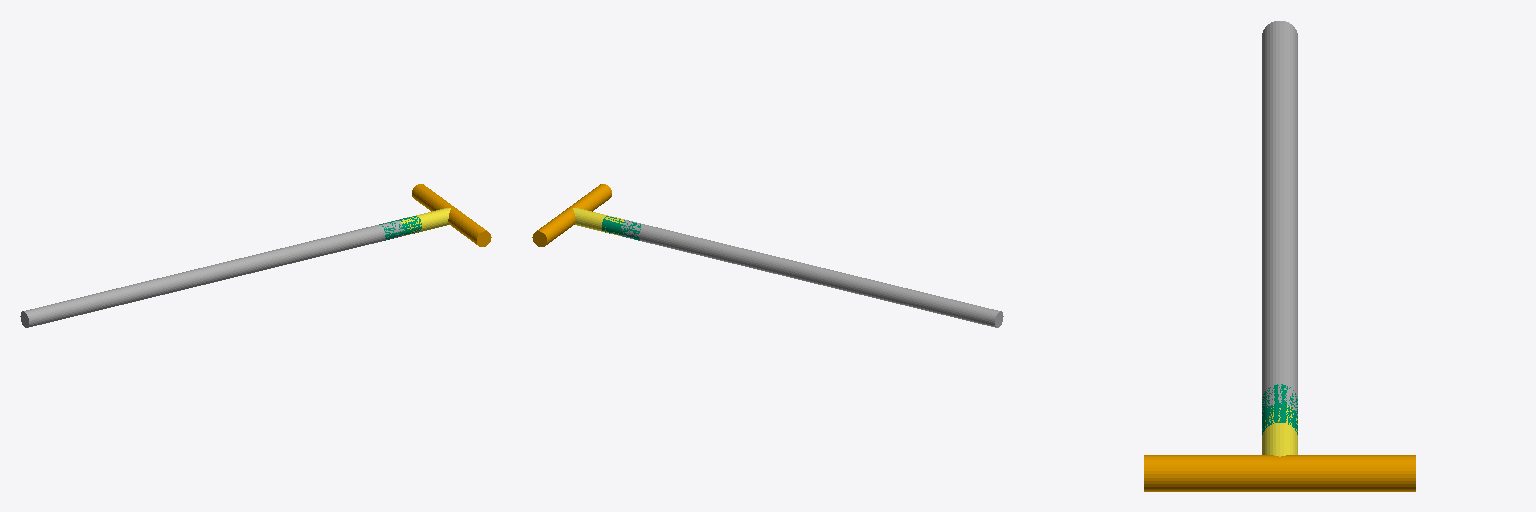
robot.urdf — ouzel:
<?xml version="1.0" ?><!-- =================================================================================== --><!-- |    This document was autogenerated by xacro from [local-path]/catkin_ws/src/mav_tools/mav_description/urdf/ouzel_base.xacro | --><!-- |    EDITING THIS FILE BY HAND IS NOT RECOMMENDED                                 | --><!-- =================================================================================== --><!--
  Copyright 2015 [author], ASL, ETH Zurich, Switzerland
  Copyright 2015 [author], ASL, ETH Zurich, Switzerland
  Copyright 2015 [author], ASL, ETH Zurich, Switzerland
  Copyright 2015 [author], ASL, ETH Zurich, Switzerland
  Copyright 2015 [author], ASL, ETH Zurich, Switzerland

  Licensed under the Apache License, Version 2.0 (the "License");
  you may not use this file except in compliance with the License.
  You may obtain a copy of the License at

  http://www.apache.org/licenses/LICENSE-2.0

  Unless required by applicable law or agreed to in writing, software
  distributed under the License is distributed on an "AS IS" BASIS,
  WITHOUT WARRANTIES OR CONDITIONS OF ANY KIND, either express or implied.
  See the License for the specific language governing permissions and
  limitations under the License.
--><robot name="ouzel"><!-- =============================================================== --><!-- ==================== ROS INTERFACE MACRO ====================== --><!-- =============================================================== --><!-- <xacro:macro 
  		name="ros_interface_plugin_macro"
  		params="namespace">
    <gazebo>
      <plugin name="ros_interface_plugin" filename="librotors_gazebo_ros_interface_plugin.so">
        <robotNamespace>${namespace}</robotNamespace>
      </plugin>
    </gazebo>
  </xacro:macro>--><link name="ouzel/base_link" /><joint name="ouzel/base_joint" type="fixed"><origin rpy="0.0 0 0" xyz="0 0 0" /><parent link="ouzel/base_link" /><child link="ouzel/base_link_inertia" /></joint><link name="ouzel/base_link_inertia"><inertial><mass value="2.53" /><!-- [kg] --><origin xyz="0.0 0.0 0.03" /><inertia ixx="0.0075" ixy="-3.4208e-05" ixz="2.4695e-05" iyy="0.010939" iyz="-3.8826e-06" izz="0.01369" /></inertial><visual><origin rpy="0 0 0" xyz="0 0 0" /><geometry><mesh filename="/ouzel_simple.obj" scale="1 1 1" /></geometry></visual><collision><origin rpy="0 0 0" xyz="0 0 0" /><geometry><mesh filename="/ouzel_simple.obj" scale="1 1 1" /></geometry></collision><surface><friction><ode><mu>0.5</mu><mu2>0.5</mu2></ode></friction><bounce><restitution_coefficient>0.01</restitution_coefficient><threshold>0.01</threshold></bounce><contact><ode><max_vel>0.1</max_vel><soft_cfm>0.8</soft_cfm><soft_erp>0.8</soft_erp><kd>2500</kd><kp>10</kp><min_depth>0.001</min_depth></ode></contact></surface></link><!-- attach multirotor_base_plugin to the base_link --><!-- Rotor tilt_unit --><joint name="ouzel/tilt_unit_0_revolutejoint" type="continuous"><origin rpy="0 0 4.71238898038" xyz="0 -0.3 0" /><axis xyz="1 0 0" /><parent link="ouzel/base_link_inertia" /><child link="ouzel/tilt_unit_0" /></joint><link name="ouzel/tilt_unit_0"><inertial><mass value="0.277" /><!-- [kg] --><inertia ixx="0.00034257" ixy="0" ixz="0" iyy="0.0013205" iyz="0" izz="0.0010037" /><!-- [kg m^2] [kg m^2] [kg m^2] [kg m^2] [kg m^2] [kg m^2] --></inertial><visual><geometry><mesh filename="[local-path]/catkin_ws/src/rotors_simulator/rotors_description/meshes/omav/omav_tiltarm.dae" scale="1 1 1" /></geometry></visual><collision><geometry><box size="0.005 0.005 0.005" /><!-- [m] --></geometry></collision></link><!-- Upper Rotor --><joint name="rotor_0_joint" type="continuous"><origin rpy="0 0 0" xyz="0 0 0.06" /><axis xyz="0 0 1" /><parent link="ouzel/tilt_unit_0" /><child link="rotor_0" /></joint><link name="rotor_0"><inertial><mass value="0.0065" /><!-- [kg] --><inertia ixx="2.2154157805000002e-06" ixy="0.0" ixz="0.0" iyy="7.081470917410501e-05" iyz="0.0" izz="7.2932624993605e-05" /></inertial><visual><geometry><mesh filename="[local-path]/catkin_ws/src/rotors_simulator/rotors_description/meshes/propeller_ccw.dae" scale="0.1143 0.1143 0.1143" /></geometry></visual><collision><geometry><cylinder length="0.005" radius="0.1143" /><!-- [m] --></geometry></collision></link><!-- Lower Rotor --><joint name="rotor_6_joint" type="continuous"><origin rpy="0 0 0" xyz="0 0 -0.06" /><axis xyz="0 0 1" /><parent link="ouzel/tilt_unit_0" /><child link="rotor_6" /></joint><link name="rotor_6"><inertial><mass value="0.0065" /><!-- [kg] --><inertia ixx="2.2154157805000002e-06" ixy="0.0" ixz="0.0" iyy="7.081470917410501e-05" iyz="0.0" izz="7.2932624993605e-05" /></inertial><visual><geometry><mesh filename="[local-path]/catkin_ws/src/rotors_simulator/rotors_description/meshes/propeller_cw.dae" scale="0.1143 0.1143 0.1143" /></geometry></visual><collision><geometry><cylinder length="0.005" radius="0.1143" /><!-- [m] --></geometry></collision></link><!-- Rotor tilt_unit --><joint name="ouzel/tilt_unit_1_revolutejoint" type="continuous"><origin rpy="0 0 1.57079632679" xyz="0 0.3 0" /><axis xyz="1 0 0" /><parent link="ouzel/base_link_inertia" /><child link="ouzel/tilt_unit_1" /></joint><link name="ouzel/tilt_unit_1"><inertial><mass value="0.277" /><!-- [kg] --><inertia ixx="0.00034257" ixy="0" ixz="0" iyy="0.0013205" iyz="0" izz="0.0010037" /><!-- [kg m^2] [kg m^2] [kg m^2] [kg m^2] [kg m^2] [kg m^2] --></inertial><visual><geometry><mesh filename="[local-path]/catkin_ws/src/rotors_simulator/rotors_description/meshes/omav/omav_tiltarm.dae" scale="1 1 1" /></geometry></visual><collision><geometry><box size="0.005 0.005 0.005" /><!-- [m] --></geometry></collision></link><!-- Upper Rotor --><joint name="rotor_1_joint" type="continuous"><origin rpy="0 0 0" xyz="0 0 0.06" /><axis xyz="0 0 1" /><parent link="ouzel/tilt_unit_1" /><child link="rotor_1" /></joint><link name="rotor_1"><inertial><mass value="0.0065" /><!-- [kg] --><inertia ixx="2.2154157805000002e-06" ixy="0.0" ixz="0.0" iyy="7.081470917410501e-05" iyz="0.0" izz="7.2932624993605e-05" /></inertial><visual><geometry><mesh filename="[local-path]/catkin_ws/src/rotors_simulator/rotors_description/meshes/propeller_cw.dae" scale="0.1143 0.1143 0.1143" /></geometry></visual><collision><geometry><cylinder length="0.005" radius="0.1143" /><!-- [m] --></geometry></collision></link><!-- Lower Rotor --><joint name="rotor_7_joint" type="continuous"><origin rpy="0 0 0" xyz="0 0 -0.06" /><axis xyz="0 0 1" /><parent link="ouzel/tilt_unit_1" /><child link="rotor_7" /></joint><link name="rotor_7"><inertial><mass value="0.0065" /><!-- [kg] --><inertia ixx="2.2154157805000002e-06" ixy="0.0" ixz="0.0" iyy="7.081470917410501e-05" iyz="0.0" izz="7.2932624993605e-05" /></inertial><visual><geometry><mesh filename="[local-path]/catkin_ws/src/rotors_simulator/rotors_description/meshes/propeller_ccw.dae" scale="0.1143 0.1143 0.1143" /></geometry></visual><collision><geometry><cylinder length="0.005" radius="0.1143" /><!-- [m] --></geometry></collision></link><!-- Rotor tilt_unit --><joint name="ouzel/tilt_unit_2_revolutejoint" type="continuous"><origin rpy="0 0 0.52359877559" xyz="0.25980762113519995 0.15 0" /><axis xyz="1 0 0" /><parent link="ouzel/base_link_inertia" /><child link="ouzel/tilt_unit_2" /></joint><link name="ouzel/tilt_unit_2"><inertial><mass value="0.277" /><!-- [kg] --><inertia ixx="0.00034257" ixy="0" ixz="0" iyy="0.0013205" iyz="0" izz="0.0010037" /><!-- [kg m^2] [kg m^2] [kg m^2] [kg m^2] [kg m^2] [kg m^2] --></inertial><visual><geometry><mesh filename="[local-path]/catkin_ws/src/rotors_simulator/rotors_description/meshes/omav/omav_tiltarm.dae" scale="1 1 1" /></geometry></visual><collision><geometry><box size="0.005 0.005 0.005" /><!-- [m] --></geometry></collision></link><!-- Upper Rotor --><joint name="rotor_2_joint" type="continuous"><origin rpy="0 0 0" xyz="0 0 0.06" /><axis xyz="0 0 1" /><parent link="ouzel/tilt_unit_2" /><child link="rotor_2" /></joint><link name="rotor_2"><inertial><mass value="0.0065" /><!-- [kg] --><inertia ixx="2.2154157805000002e-06" ixy="0.0" ixz="0.0" iyy="7.081470917410501e-05" iyz="0.0" izz="7.2932624993605e-05" /></inertial><visual><geometry><mesh filename="[local-path]/catkin_ws/src/rotors_simulator/rotors_description/meshes/propeller_ccw.dae" scale="0.1143 0.1143 0.1143" /></geometry></visual><collision><geometry><cylinder length="0.005" radius="0.1143" /><!-- [m] --></geometry></collision></link><!-- Lower Rotor --><joint name="rotor_8_joint" type="continuous"><origin rpy="0 0 0" xyz="0 0 -0.06" /><axis xyz="0 0 1" /><parent link="ouzel/tilt_unit_2" /><child link="rotor_8" /></joint><link name="rotor_8"><inertial><mass value="0.0065" /><!-- [kg] --><inertia ixx="2.2154157805000002e-06" ixy="0.0" ixz="0.0" iyy="7.081470917410501e-05" iyz="0.0" izz="7.2932624993605e-05" /></inertial><visual><geometry><mesh filename="[local-path]/catkin_ws/src/rotors_simulator/rotors_description/meshes/propeller_cw.dae" scale="0.1143 0.1143 0.1143" /></geometry></visual><collision><geometry><cylinder length="0.005" radius="0.1143" /><!-- [m] --></geometry></collision></link><!-- Rotor tilt_unit --><joint name="ouzel/tilt_unit_3_revolutejoint" type="continuous"><origin rpy="0 0 3.66519142919" xyz="-0.25980762113519995 -0.15 0" /><axis xyz="1 0 0" /><parent link="ouzel/base_link_inertia" /><child link="ouzel/tilt_unit_3" /></joint><link name="ouzel/tilt_unit_3"><inertial><mass value="0.277" /><!-- [kg] --><inertia ixx="0.00034257" ixy="0" ixz="0" iyy="0.0013205" iyz="0" izz="0.0010037" /><!-- [kg m^2] [kg m^2] [kg m^2] [kg m^2] [kg m^2] [kg m^2] --></inertial><visual><geometry><mesh filename="[local-path]/catkin_ws/src/rotors_simulator/rotors_description/meshes/omav/omav_tiltarm.dae" scale="1 1 1" /></geometry></visual><collision><geometry><box size="0.005 0.005 0.005" /><!-- [m] --></geometry></collision></link><!-- Upper Rotor --><joint name="rotor_3_joint" type="continuous"><origin rpy="0 0 0" xyz="0 0 0.06" /><axis xyz="0 0 1" /><parent link="ouzel/tilt_unit_3" /><child link="rotor_3" /></joint><link name="rotor_3"><inertial><mass value="0.0065" /><!-- [kg] --><inertia ixx="2.2154157805000002e-06" ixy="0.0" ixz="0.0" iyy="7.081470917410501e-05" iyz="0.0" izz="7.2932624993605e-05" /></inertial><visual><geometry><mesh filename="[local-path]/catkin_ws/src/rotors_simulator/rotors_description/meshes/propeller_cw.dae" scale="0.1143 0.1143 0.1143" /></geometry></visual><collision><geometry><cylinder length="0.005" radius="0.1143" /><!-- [m] --></geometry></collision></link><!-- Lower Rotor --><joint name="rotor_9_joint" type="continuous"><origin rpy="0 0 0" xyz="0 0 -0.06" /><axis xyz="0 0 1" /><parent link="ouzel/tilt_unit_3" /><child link="rotor_9" /></joint><link name="rotor_9"><inertial><mass value="0.0065" /><!-- [kg] --><inertia ixx="2.2154157805000002e-06" ixy="0.0" ixz="0.0" iyy="7.081470917410501e-05" iyz="0.0" izz="7.2932624993605e-05" /></inertial><visual><geometry><mesh filename="[local-path]/catkin_ws/src/rotors_simulator/rotors_description/meshes/propeller_ccw.dae" scale="0.1143 0.1143 0.1143" /></geometry></visual><collision><geometry><cylinder length="0.005" radius="0.1143" /><!-- [m] --></geometry></collision></link><!-- Rotor tilt_unit --><joint name="ouzel/tilt_unit_4_revolutejoint" type="continuous"><origin rpy="0 0 5.75958653158" xyz="0.25980762113519995 -0.15 0" /><axis xyz="1 0 0" /><parent link="ouzel/base_link_inertia" /><child link="ouzel/tilt_unit_4" /></joint><link name="ouzel/tilt_unit_4"><inertial><mass value="0.277" /><!-- [kg] --><inertia ixx="0.00034257" ixy="0" ixz="0" iyy="0.0013205" iyz="0" izz="0.0010037" /><!-- [kg m^2] [kg m^2] [kg m^2] [kg m^2] [kg m^2] [kg m^2] --></inertial><visual><geometry><mesh filename="[local-path]/catkin_ws/src/rotors_simulator/rotors_description/meshes/omav/omav_tiltarm.dae" scale="1 1 1" /></geometry></visual><collision><geometry><box size="0.005 0.005 0.005" /><!-- [m] --></geometry></collision></link><!-- Upper Rotor --><joint name="rotor_4_joint" type="continuous"><origin rpy="0 0 0" xyz="0 0 0.06" /><axis xyz="0 0 1" /><parent link="ouzel/tilt_unit_4" /><child link="rotor_4" /></joint><link name="rotor_4"><inertial><mass value="0.0065" /><!-- [kg] --><inertia ixx="2.2154157805000002e-06" ixy="0.0" ixz="0.0" iyy="7.081470917410501e-05" iyz="0.0" izz="7.2932624993605e-05" /></inertial><visual><geometry><mesh filename="[local-path]/catkin_ws/src/rotors_simulator/rotors_description/meshes/propeller_cw.dae" scale="0.1143 0.1143 0.1143" /></geometry></visual><collision><geometry><cylinder length="0.005" radius="0.1143" /><!-- [m] --></geometry></collision></link><!-- Lower Rotor --><joint name="rotor_10_joint" type="continuous"><origin rpy="0 0 0" xyz="0 0 -0.06" /><axis xyz="0 0 1" /><parent link="ouzel/tilt_unit_4" /><child link="rotor_10" /></joint><link name="rotor_10"><inertial><mass value="0.0065" /><!-- [kg] --><inertia ixx="2.2154157805000002e-06" ixy="0.0" ixz="0.0" iyy="7.081470917410501e-05" iyz="0.0" izz="7.2932624993605e-05" /></inertial><visual><geometry><mesh filename="[local-path]/catkin_ws/src/rotors_simulator/rotors_description/meshes/propeller_ccw.dae" scale="0.1143 0.1143 0.1143" /></geometry></visual><collision><geometry><cylinder length="0.005" radius="0.1143" /><!-- [m] --></geometry></collision></link><!-- Rotor tilt_unit --><joint name="ouzel/tilt_unit_5_revolutejoint" type="continuous"><origin rpy="0 0 2.61799387799" xyz="-0.25980762113519995 0.15 0" /><axis xyz="1 0 0" /><parent link="ouzel/base_link_inertia" /><child link="ouzel/tilt_unit_5" /></joint><link name="ouzel/tilt_unit_5"><inertial><mass value="0.277" /><!-- [kg] --><inertia ixx="0.00034257" ixy="0" ixz="0" iyy="0.0013205" iyz="0" izz="0.0010037" /><!-- [kg m^2] [kg m^2] [kg m^2] [kg m^2] [kg m^2] [kg m^2] --></inertial><visual><geometry><mesh filename="[local-path]/catkin_ws/src/rotors_simulator/rotors_description/meshes/omav/omav_tiltarm.dae" scale="1 1 1" /></geometry></visual><collision><geometry><box size="0.005 0.005 0.005" /><!-- [m] --></geometry></collision></link><!-- Upper Rotor --><joint name="rotor_5_joint" type="continuous"><origin rpy="0 0 0" xyz="0 0 0.06" /><axis xyz="0 0 1" /><parent link="ouzel/tilt_unit_5" /><child link="rotor_5" /></joint><link name="rotor_5"><inertial><mass value="0.0065" /><!-- [kg] --><inertia ixx="2.2154157805000002e-06" ixy="0.0" ixz="0.0" iyy="7.081470917410501e-05" iyz="0.0" izz="7.2932624993605e-05" /></inertial><visual><geometry><mesh filename="[local-path]/catkin_ws/src/rotors_simulator/rotors_description/meshes/propeller_ccw.dae" scale="0.1143 0.1143 0.1143" /></geometry></visual><collision><geometry><cylinder length="0.005" radius="0.1143" /><!-- [m] --></geometry></collision></link><!-- Lower Rotor --><joint name="rotor_11_joint" type="continuous"><origin rpy="0 0 0" xyz="0 0 -0.06" /><axis xyz="0 0 1" /><parent link="ouzel/tilt_unit_5" /><child link="rotor_11" /></joint><link name="rotor_11"><inertial><mass value="0.0065" /><!-- [kg] --><inertia ixx="2.2154157805000002e-06" ixy="0.0" ixz="0.0" iyy="7.081470917410501e-05" iyz="0.0" izz="7.2932624993605e-05" /></inertial><visual><geometry><mesh filename="[local-path]/catkin_ws/src/rotors_simulator/rotors_description/meshes/propeller_cw.dae" scale="0.1143 0.1143 0.1143" /></geometry></visual><collision><geometry><cylinder length="0.005" radius="0.1143" /><!-- [m] --></geometry></collision></link><!-- IMU link --><link name="ouzel/imu_link"><inertial><inertia ixx="0.00001" ixy="0.0" ixz="0.0" iyy="0.00001" iyz="0.0" izz="0.00001" /><mass value="0.015" /><!-- [kg] --><origin rpy="0 0 0" xyz="0 0 0" /></inertial></link><!-- IMU joint --><joint name="ouzel/imu_joint" type="fixed"><origin rpy="0 0 0" xyz="0 0 0" /><parent link="ouzel/base_link" /><child link="ouzel/imu_link" /><limit effort="0" lower="0" upper="0" velocity="0" /></joint><!-- IMU link --><link name="ouzel/imugt_link"><inertial><inertia ixx="0.00001" ixy="0.0" ixz="0.0" iyy="0.00001" iyz="0.0" izz="0.00001" /><mass value="1e-05" /><!-- [kg] --><origin rpy="0 0 0" xyz="0 0 0" /></inertial></link><!-- IMU joint --><joint name="ouzel/imugt_joint" type="fixed"><origin rpy="0 0 0" xyz="0 0 0" /><parent link="ouzel/base_link" /><child link="ouzel/imugt_link" /><limit effort="0" lower="0" upper="0" velocity="0" /></joint><!-- odometry link --><link name="ouzel/odometry_sensorgt_link"><inertial><inertia ixx="0.00001" ixy="0.0" ixz="0.0" iyy="0.00001" iyz="0.0" izz="0.00001" /><mass value="1e-05" /><!-- [kg] --></inertial></link><!-- odometry joint --><joint name="ouzel/odometry_sensorgt_joint" type="fixed"><parent link="ouzel/base_link" /><origin rpy="0.0 0.0 0.0" xyz="0.0 0.0 0.0" /><child link="ouzel/odometry_sensorgt_link" /><limit effort="0" lower="0" upper="0" velocity="0" /></joint><!-- [kg] --><!-- Add Ouzel frames --><joint name="ouzel/manipulator_joint" type="fixed"><axis xyz="0 0 1" /><origin rpy="0 1.5708 0" xyz="0 0 0" /><parent link="ouzel/base_link" /><child link="ouzel/manipulator" /></joint><link name="ouzel/manipulator"><visual><origin rpy="0 0 0" xyz="0 0 0.25" /><geometry><cylinder length="0.5" radius="0.01" /></geometry></visual><collision><origin rpy="0 0 0" xyz="0 0 0.25" /><geometry><cylinder length="0.5" radius="0.01" /></geometry></collision><inertial><mass value="0.18" /><inertia ixx="0.000807" ixy="0" ixz="0" iyy="0.000807" iyz="0" izz="2e-6" /></inertial></link>
  
  <!-- Add Hook to manipulator-->&gt;
  <joint name="ouzel/hook_joint" type="fixed">
    <axis xyz="0 0 0" />
    <origin rpy="1.5708 0 0" xyz="0 0 0.07" />
    <parent link="ouzel/tool" />
    <child link="hook" />
  </joint>
  <link name="hook">
    <visual>
      <origin rpy="0 0 0" xyz="0 0 0" />
      <geometry>
        <cylinder length="0.15" radius="0.01" />
      </geometry>
    </visual>
    <collision>
      <origin rpy="0 0 0" xyz="0 0 0" />
      <geometry>
        <cylinder length="0.15" radius="0.01" />
      </geometry>
    </collision>
    <inertial>
      <mass value="0.1" />
      <inertia ixx="0.00019" ixy="0" ixz="0" iyy="0.00019" iyz="0" izz="5e-6" />
    </inertial>
  </link>

  <link name="hook_ref">
    <inertial>
      <mass value="0.0"/>
      <origin rpy="0 0 0" xyz="0 0 0"/>
      <inertia ixx="0.0" ixy="0.0" ixz="0.0" iyy="0.0" iyz="0.0" izz="0.0"/>
    </inertial>
  </link>

  <joint name="hook_ref" type="fixed">
    <parent link="hook"/>
    <child link="hook_ref"/>
    <origin rpy="0 0 0" xyz="-0.050 0 0"/> <!-- was -0.0405 -->
    <!-- height handle + half the width door, 0.30 minus some offset -->
  </joint>
  
 
  <!-- =============================================================== --><!-- ==================== ROS INTERFACE MACRO ====================== --><!-- =============================================================== --><!-- <xacro:macro 
  		name="ros_interface_plugin_macro"
  		params="namespace">
    <gazebo>
      <plugin name="ros_interface_plugin" filename="librotors_gazebo_ros_interface_plugin.so">
        <robotNamespace>${namespace}</robotNamespace>
      </plugin>
    </gazebo>
  </xacro:macro>--><!--
#########################################################################################################################
Closed kinematic loop macro

#########################################################################################################################
--><!--
#########################################################################################################################
Rigid connection macro

#########################################################################################################################
--><!--
#########################################################################################################################
Continous revolute joint macro

#########################################################################################################################
--><!--
#########################################################################################################################
Prismatic joint macro

#########################################################################################################################
--><!--
#########################################################################################################################
Actuators Macros:

#########################################################################################################################
--><!--
#########################################################################################################################
Sensors Macros:

#########################################################################################################################
--><!-- force sensor link --><link name="ouzel/force_sensor_tool"><visual><origin rpy="0 0 0" xyz="0 0 0" /><geometry><cylinder length="0.05" radius="0.01" /></geometry></visual><collision><origin rpy="0 0 0" xyz="0 0 0" /><geometry><cylinder length="0.05" radius="0.01" /></geometry></collision><inertial><inertia ixx="0.001" ixy="0.0" ixz="0.0" iyy="0.001" iyz="0.0" izz="0.001" /><mass value="0.1" /><!-- [kg] --></inertial></link><!-- force-to-ground joint --><joint name="ouzel/force_sensor_tool" type="fixed"><parent link="ouzel/manipulator" /><origin rpy="0.0 0.0 0.0" xyz="0.0 0.0 0.5" /><child link="ouzel/force_sensor_tool" /><limit effort="0" lower="0" upper="0" velocity="0" /></joint><joint name="ouzel/tool_joint" type="fixed"><axis xyz="0 0 1" /><origin rpy="0.0 0.0 0.0" xyz="0 0 0" /><parent link="ouzel/force_sensor_tool" /><child link="ouzel/tool" /></joint><link name="ouzel/tool"><visual><origin rpy="0 0 0" xyz="0 0 0.035" /><geometry><cylinder length="0.07" radius="0.01" /></geometry></visual><collision><origin rpy="0 0 0" xyz="0 0 0.035" /><geometry><cylinder length="0.07" radius="0.01" /></geometry></collision><inertial><mass value="0.03" /><inertia ixx="0.000807" ixy="0" ixz="0" iyy="0.000807" iyz="0" izz="2e-6" /></inertial></link><!-- odometry link --><link name="ouzel/odometry_sensor1_link"><inertial><inertia ixx="0.00001" ixy="0.0" ixz="0.0" iyy="0.00001" iyz="0.0" izz="0.00001" /><mass value="1e-05" /><!-- [kg] --></inertial></link><!-- odometry joint --><joint name="ouzel/odometry_sensor1_joint" type="fixed"><parent link="ouzel/base_link_inertia" /><origin rpy="0.0 0.0 0.0" xyz="0.0 0.0 0.0" /><child link="ouzel/odometry_sensor1_link" /><limit effort="0" lower="0" upper="0" velocity="0" /></joint><!-- Add tether
  <xacro:if value="$(arg add_tether)">
    <xacro:include filename="$(find mav_description)/urdf/ouzel_tether.xacro"/>
    <xacro:cable_add />
  </xacro:if>   --></robot>

--- Facts derived from the render (not from the file) ---
The picture shows the robot from 3 angles, left to right: view 1: azimuth 30°, elevation 25°; view 2: azimuth 150°, elevation 25°; view 3: azimuth 270°, elevation 25°; orthographic projection.
Model ouzel with 29 links and 28 joints (18 continuous, 10 fixed), rooted at ouzel/base_link, posed all joints at 0.
Visible links, largest first — view 1: ouzel/manipulator, hook, ouzel/tool; view 2: ouzel/manipulator, hook, ouzel/tool; view 3: ouzel/manipulator, hook, ouzel/tool, ouzel/force_sensor_tool.
Boxes of the visible links, x1,y1,x2,y2 form: ouzel/manipulator: (20,220,402,327); hook: (412,184,491,246); ouzel/tool: (399,208,450,235); ouzel/manipulator: (621,220,1003,327); hook: (532,184,611,246); ouzel/tool: (573,208,624,235); ouzel/manipulator: (1262,21,1297,415); hook: (1144,455,1415,491); ouzel/tool: (1262,405,1297,456); ouzel/force_sensor_tool: (1262,384,1297,434).
Bounding box of the posed robot: 0.58 × 0.15 × 0.02 m (x, y, z).
Geometry: only primitive shapes (box / cylinder / sphere) drawn; not drawn: 19 mesh visuals (reference in a form the renderer does not follow).